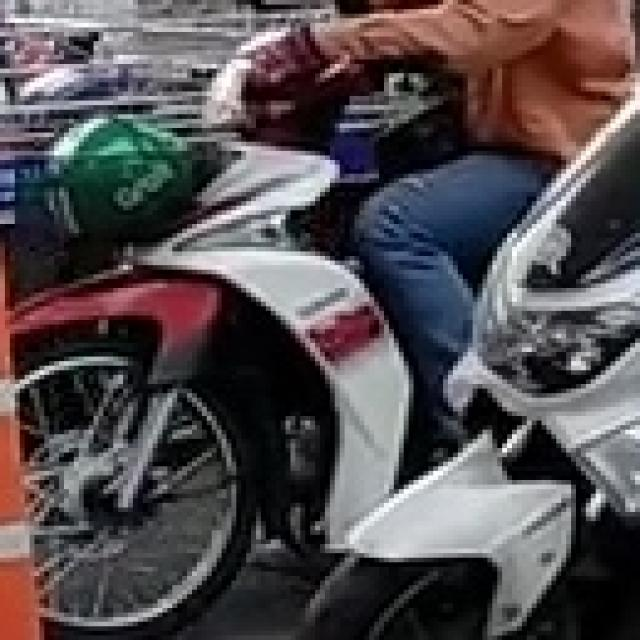door: (0, 228, 44, 635)
helmet: (39, 110, 197, 242)
tyre: (10, 338, 261, 636)
